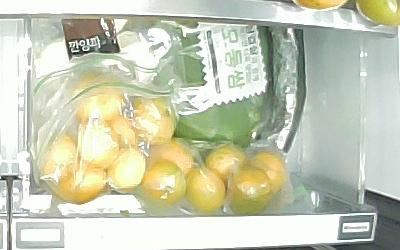tangerine_vinyl: (72, 72, 125, 122), (227, 164, 274, 216), (54, 162, 107, 205), (132, 95, 176, 142), (183, 168, 226, 215), (77, 121, 120, 168), (142, 160, 185, 206), (41, 135, 76, 191), (246, 149, 286, 197), (108, 146, 147, 193), (204, 143, 246, 180), (149, 139, 194, 173)
